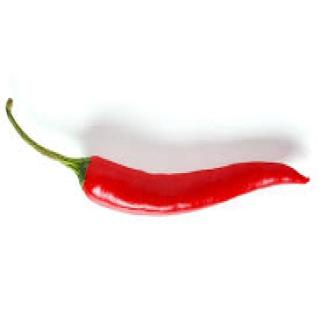Cabai Merah: (12, 102, 319, 218)
